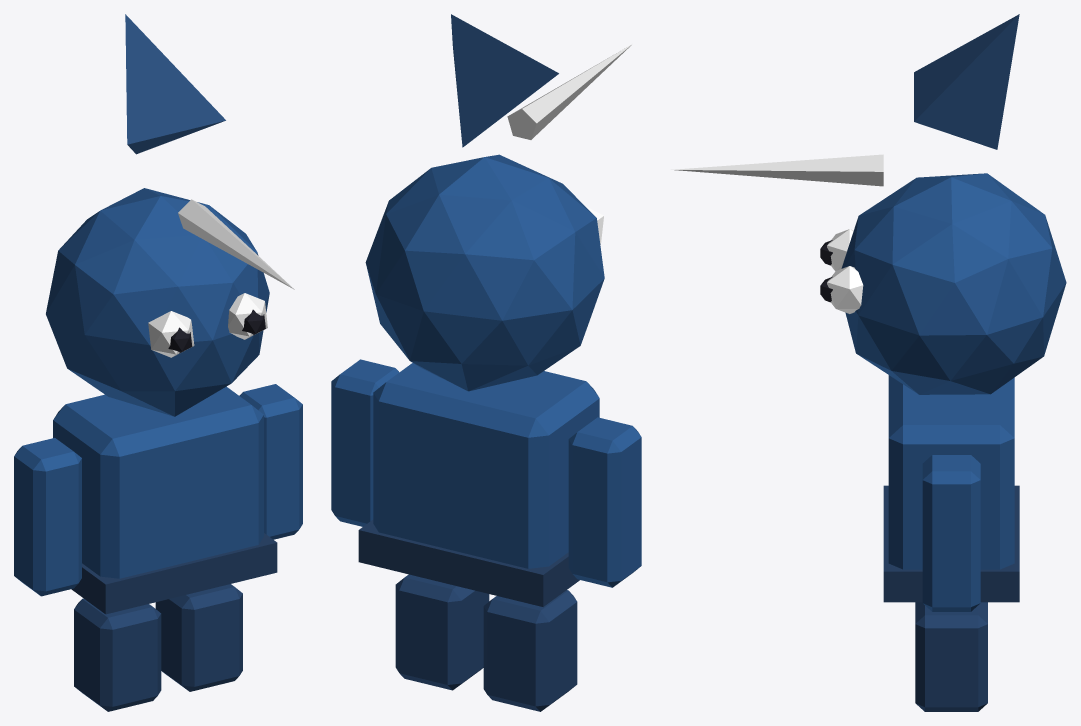
Rendered from DepthsWarden.fbx.
The picture shows the model from 3 angles, left to right: view 1: azimuth 30°, elevation 25°; view 2: azimuth 150°, elevation 25°; view 3: azimuth 270°, elevation 25°; orthographic projection. The views are drawn at different scales.
Parts seen in each view (by area): view 1: DepthsWarden; view 2: DepthsWarden; view 3: DepthsWarden.
Boxes of the visible parts, x1,y1,x2,y2 form: DepthsWarden: (14, 14, 302, 711); DepthsWarden: (331, 14, 641, 711); DepthsWarden: (671, 14, 1066, 711).
Bounding box in the file's own units: 8.58 × 19.71 × 10.62.
1 material, 1 textured.
